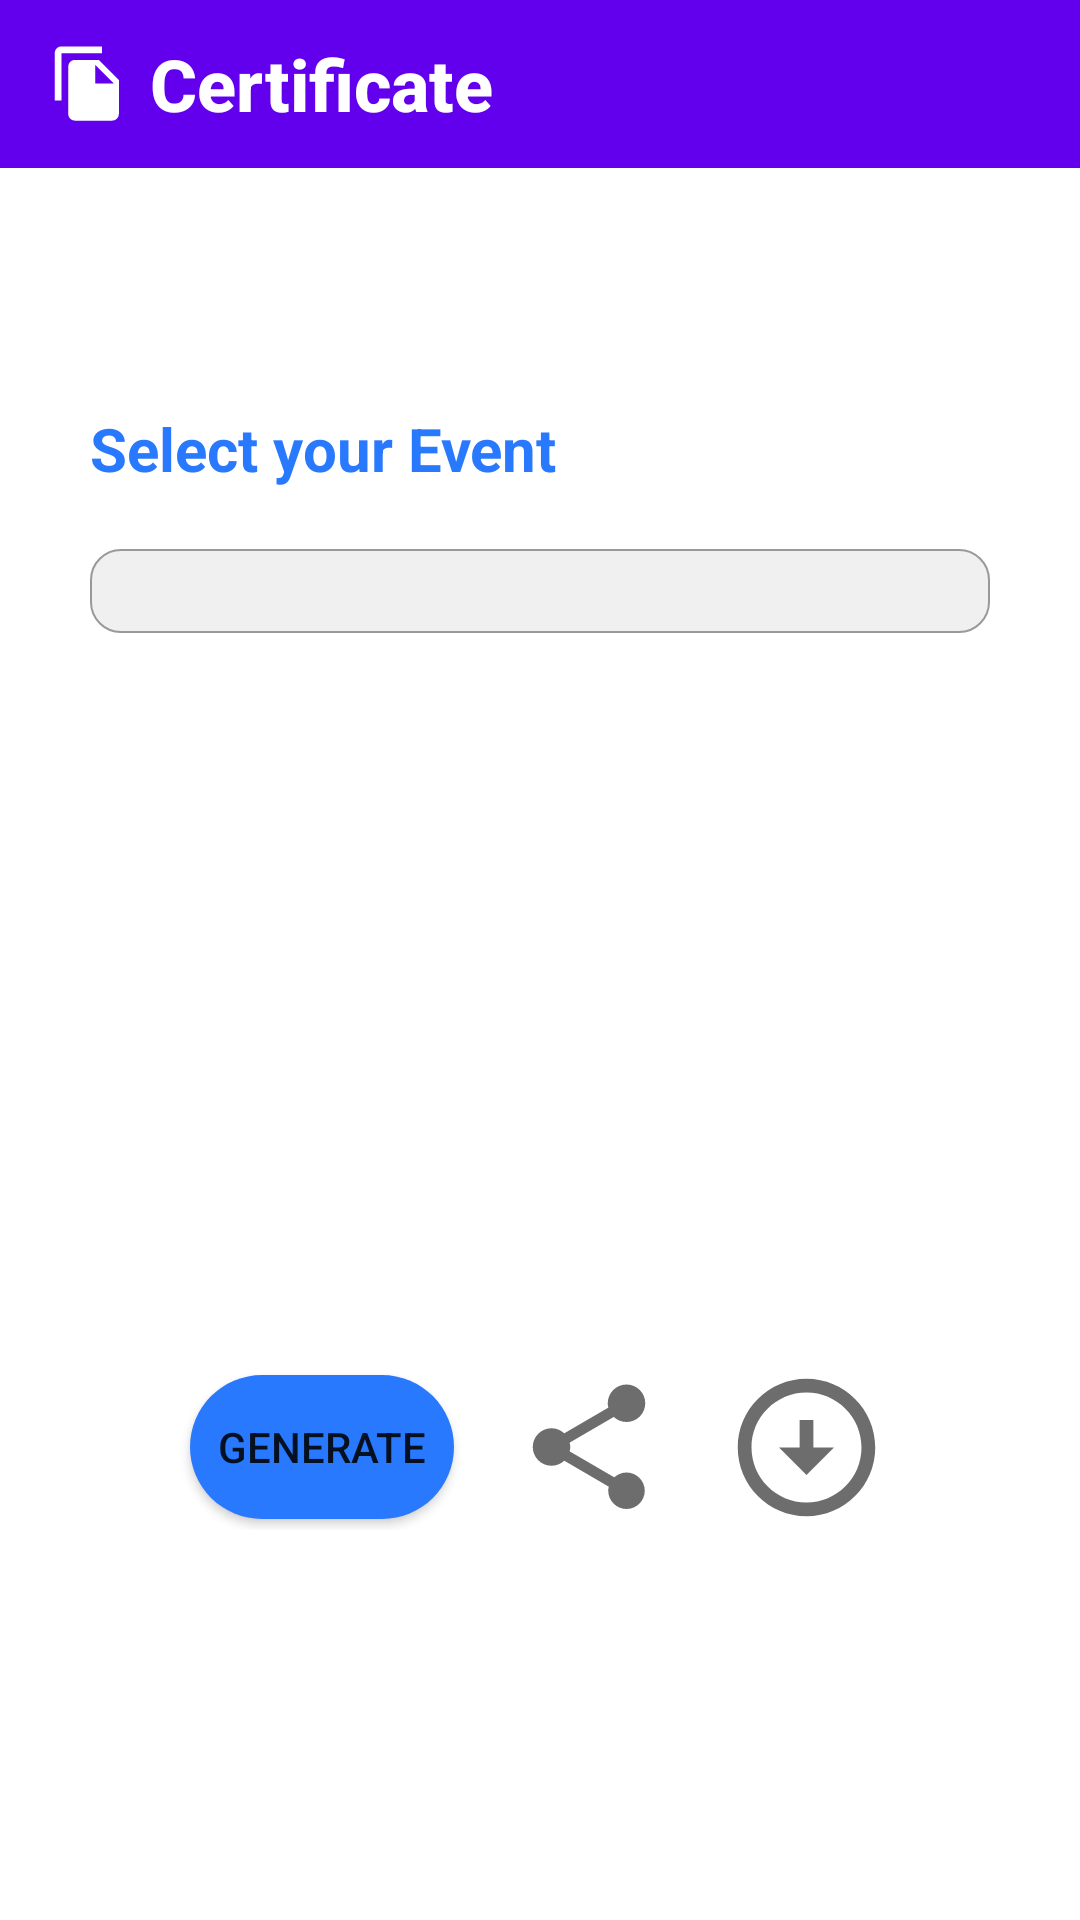

Point at icon controls on the screen. Image size 1080px x 1920px, points as [x,y].
Download Icon: [806,1447]
Share Icon: [589,1446]
